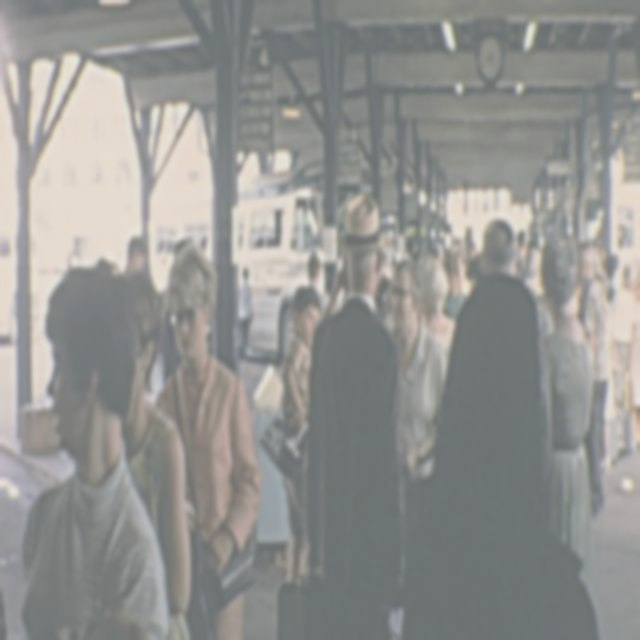pessoa: (394, 265, 598, 639), (18, 260, 174, 639), (304, 192, 406, 639), (156, 241, 262, 639), (457, 213, 541, 639), (120, 266, 192, 638), (536, 233, 594, 587), (262, 284, 324, 588), (378, 220, 622, 286), (389, 256, 444, 484), (576, 238, 612, 518), (610, 261, 638, 460), (417, 254, 457, 362), (93, 230, 154, 270), (630, 267, 640, 457), (306, 250, 332, 314), (237, 265, 254, 351)
